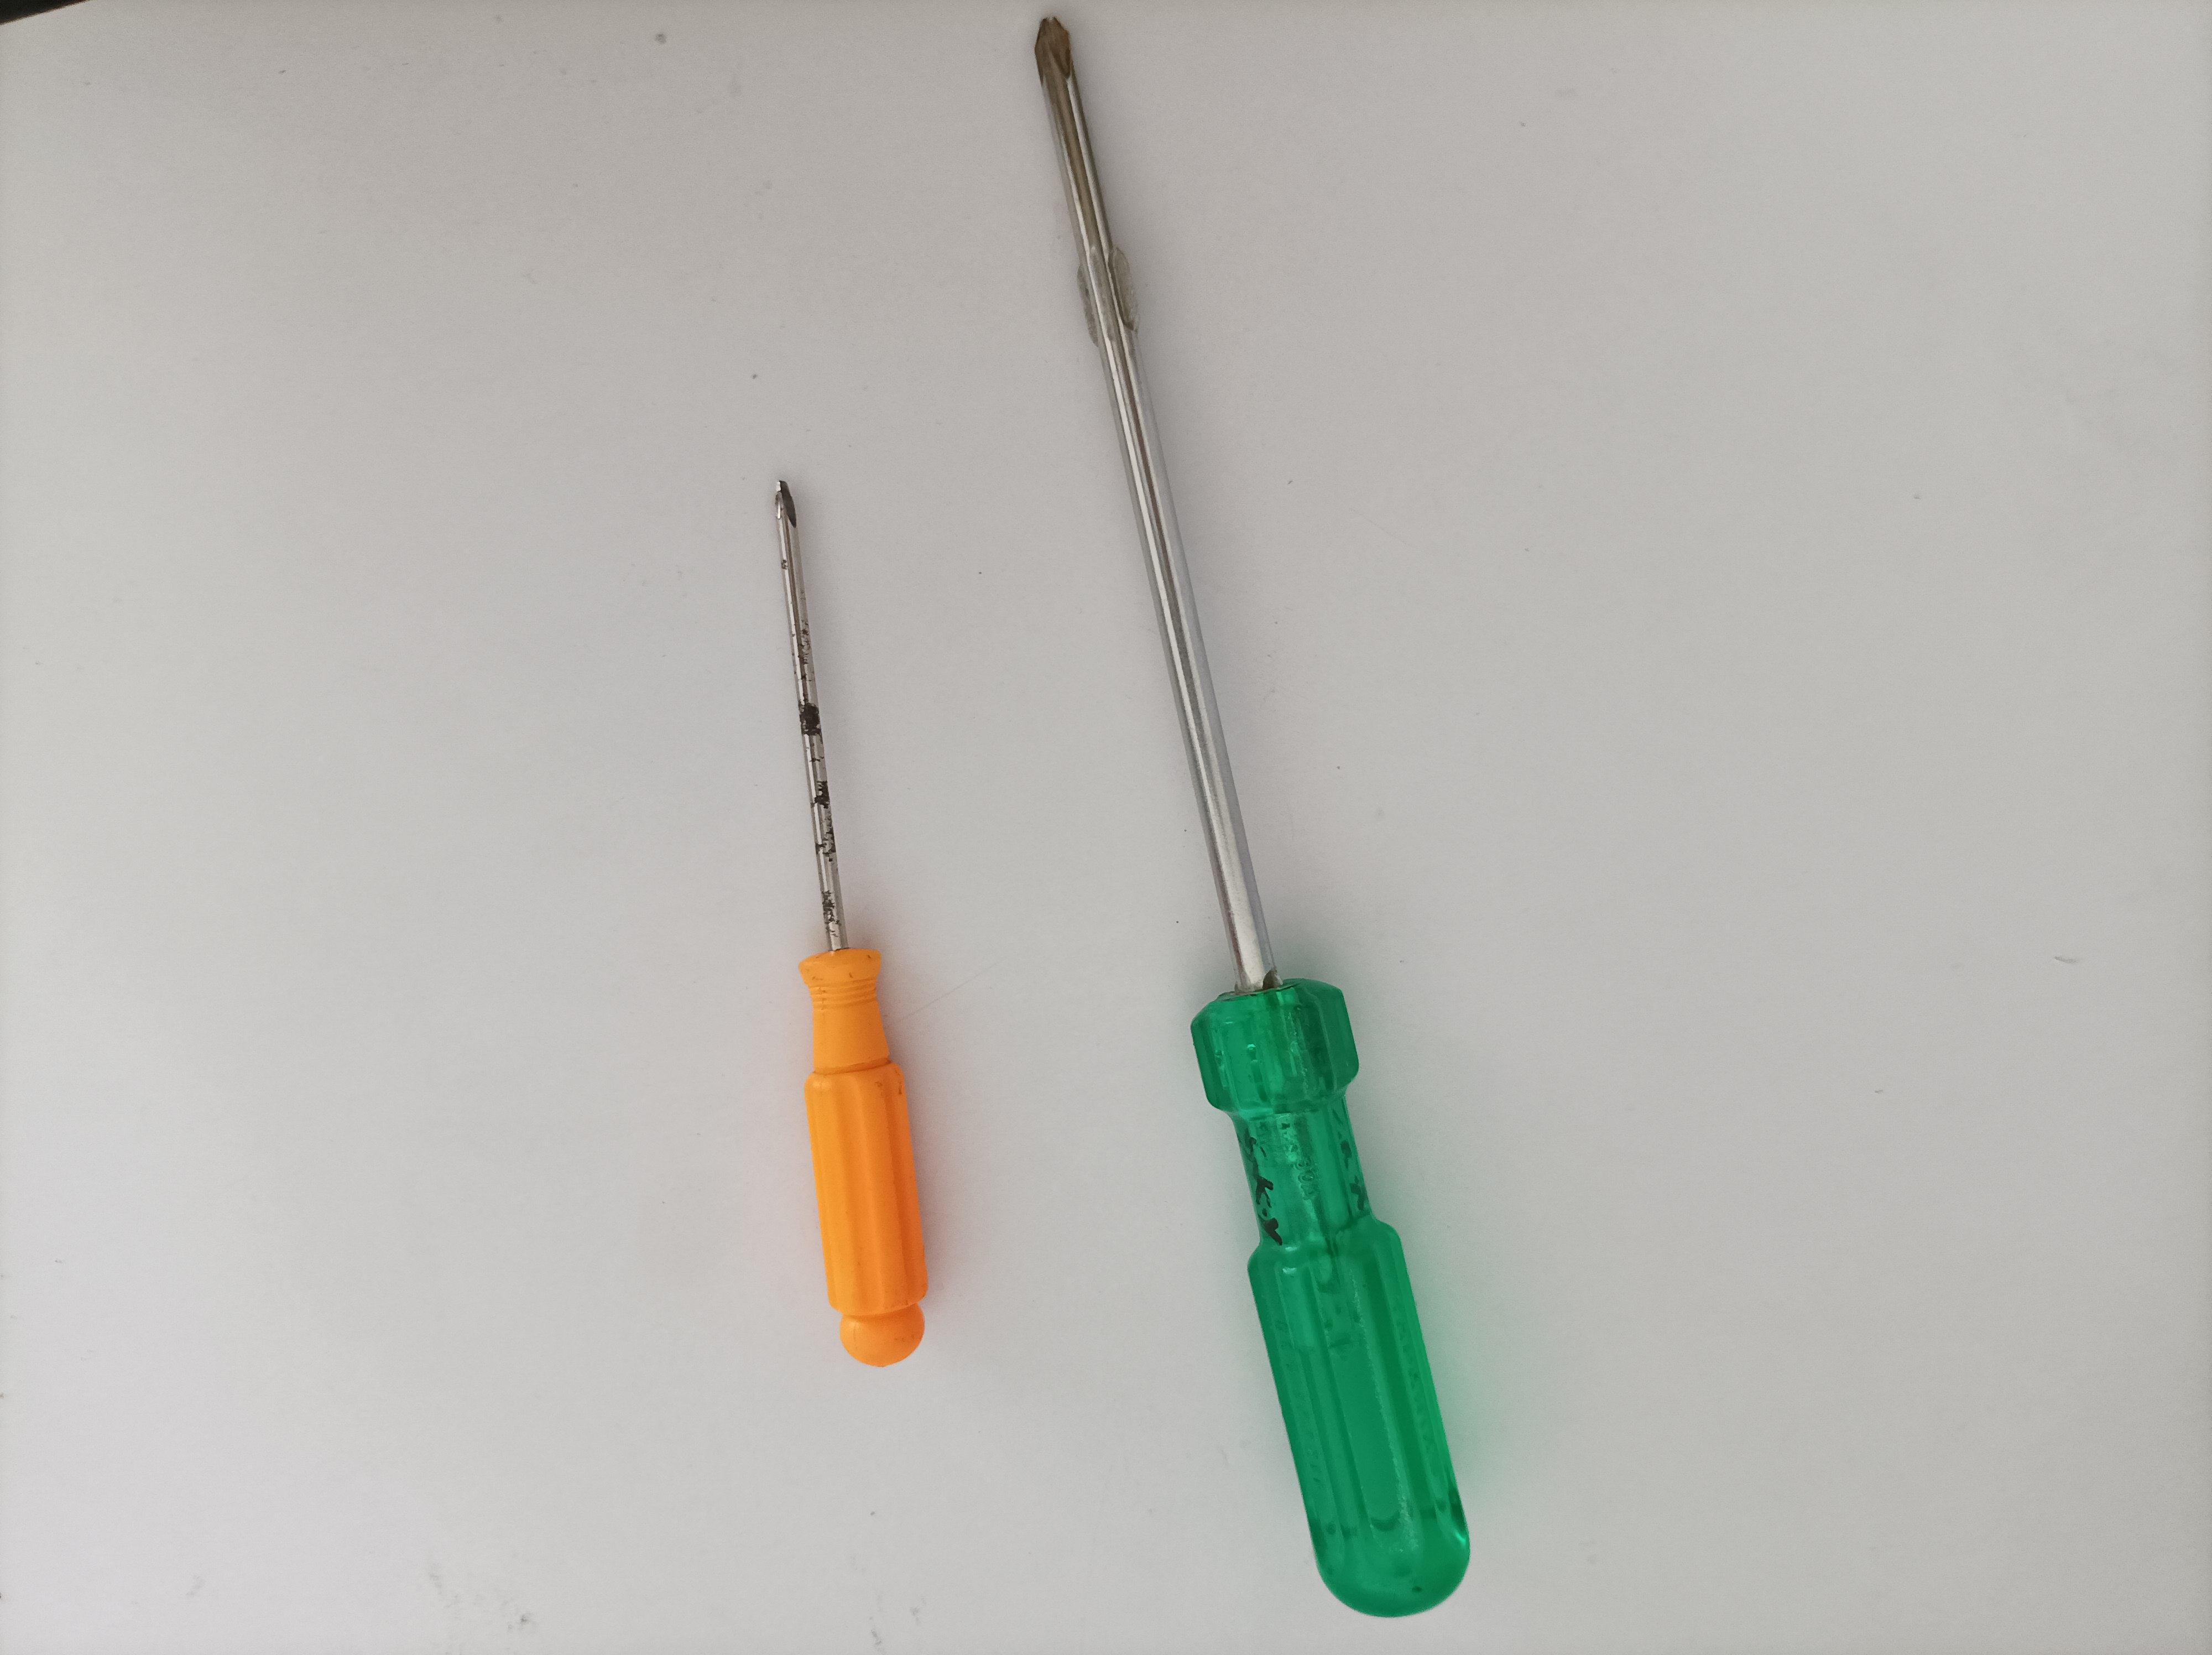screwdriver: (1023, 5, 1479, 1625), (754, 466, 940, 1373)
